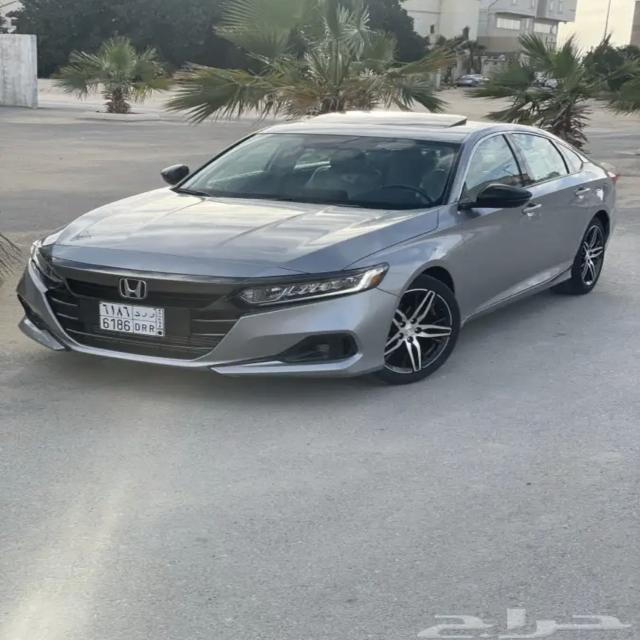license_plate: (98, 301, 166, 336)
